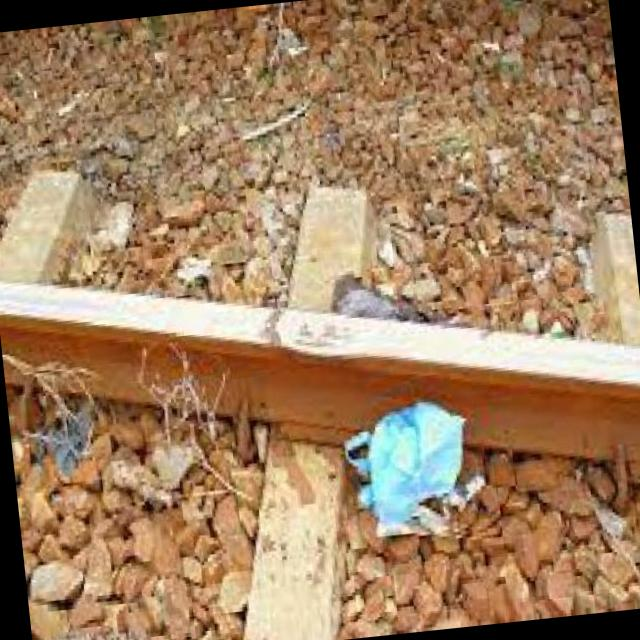defective: (137, 182, 472, 495)
